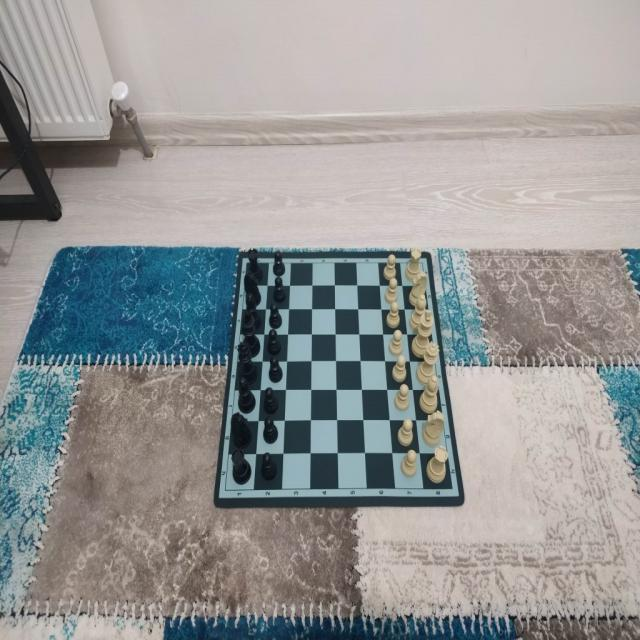chess-table-corners: (447, 484, 459, 496), (220, 484, 230, 496), (418, 258, 428, 268), (242, 258, 250, 268)
